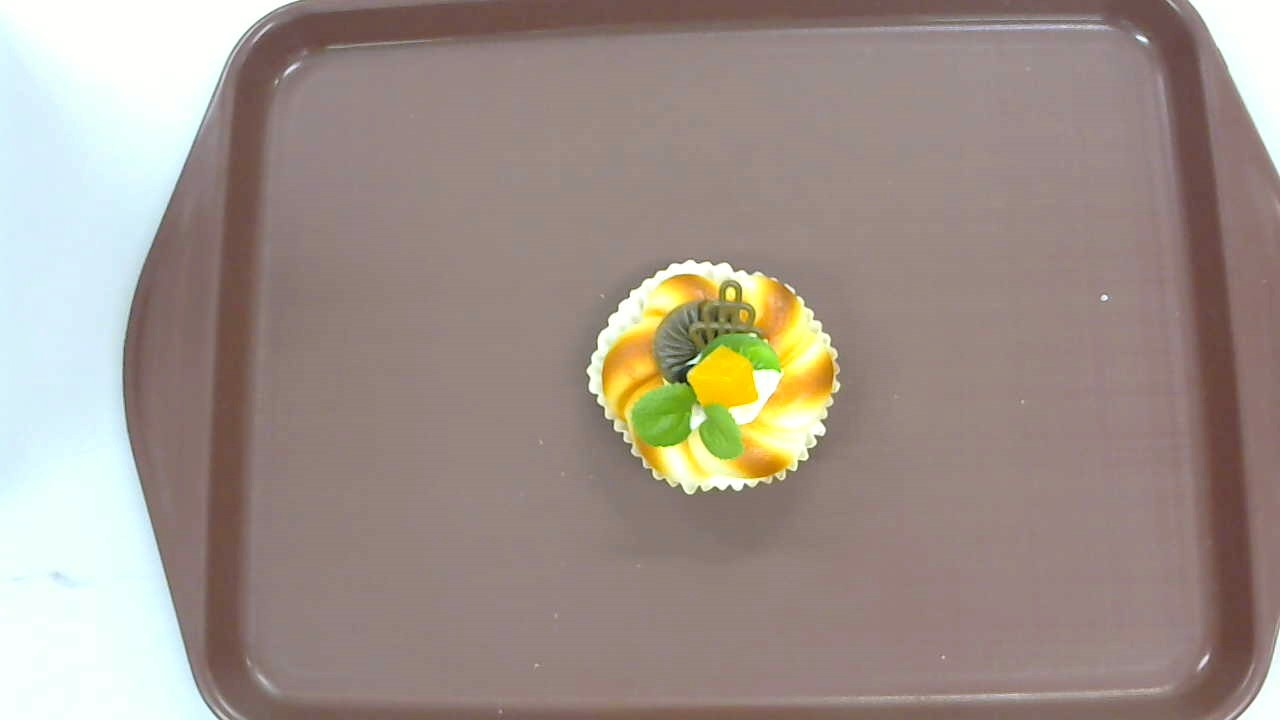fruit tart: (585, 259, 842, 495)
